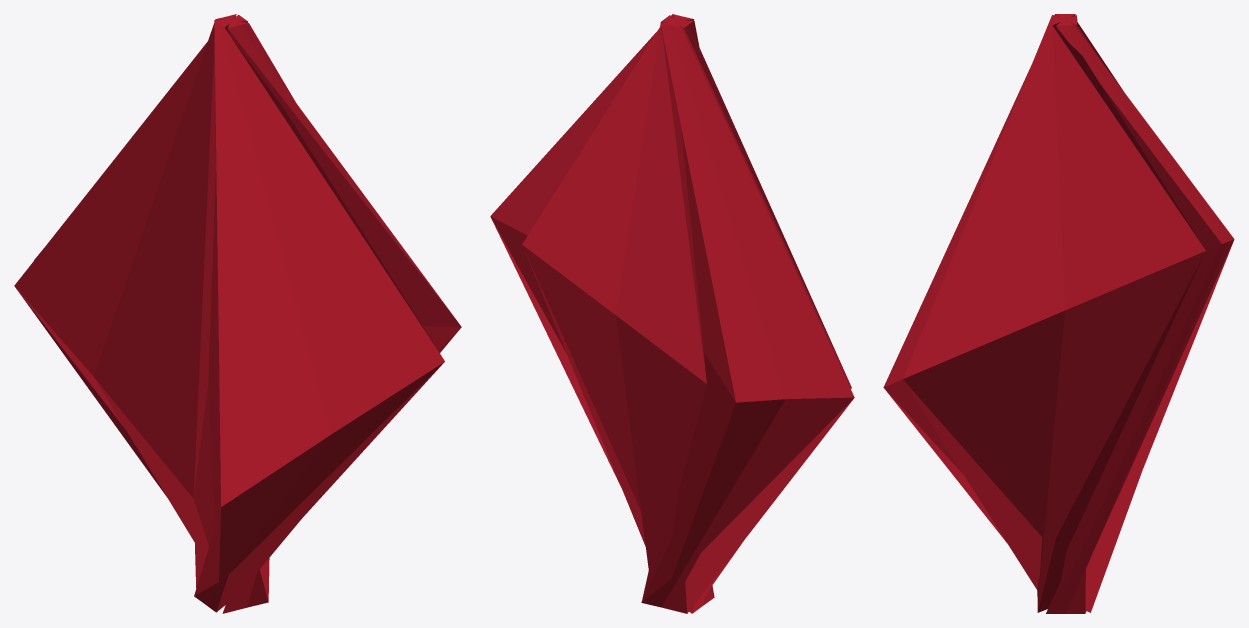
File: tree-dead-leaves-009.glb
The picture shows the model from 3 angles, left to right: view 1: azimuth 30°, elevation 25°; view 2: azimuth 150°, elevation 25°; view 3: azimuth 270°, elevation 25°; orthographic projection.
Parts seen in each view (by area): view 1: Circle.049_437; view 2: Circle.049_437; view 3: Circle.049_437.
Boxes of the visible parts, x1,y1,x2,y2 form: Circle.049_437: [14, 14, 461, 613]; Circle.049_437: [490, 14, 854, 613]; Circle.049_437: [883, 14, 1234, 613].
Size of the model in its own units: 0.8009 by 1.54 by 0.8401.
